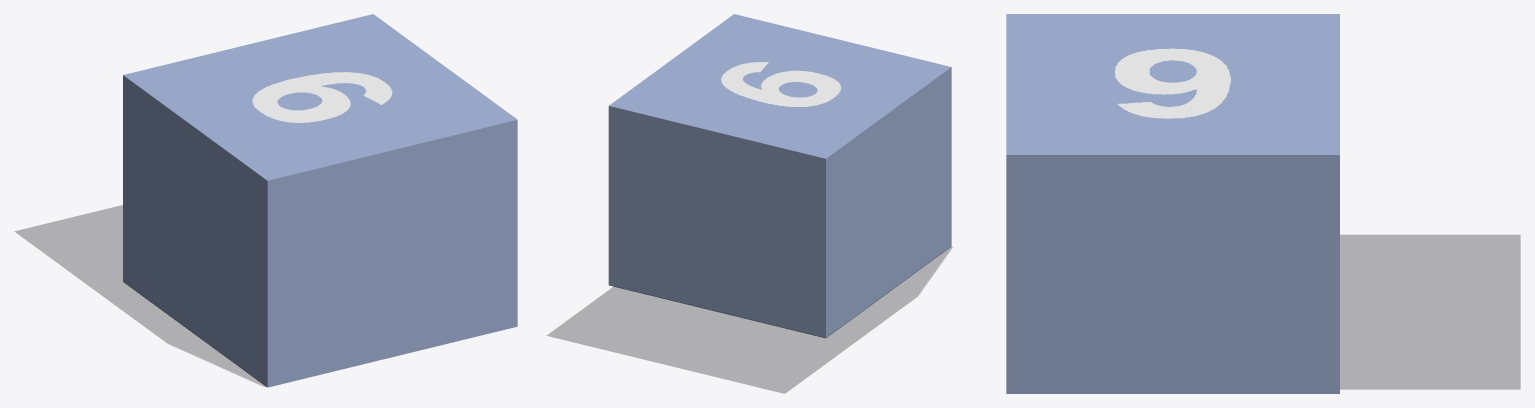
The model's file is numbered_block_5.glb.
3 renders of one model, left to right at view 1: azimuth 30°, elevation 25°; view 2: azimuth 150°, elevation 25°; view 3: azimuth 270°, elevation 25°, orthographic. The views are drawn at different scales.
Visible parts, largest first — view 1: hitObj, block, Object3D; view 2: hitObj, block, Object3D; view 3: hitObj, block, Object3D.
Boxes of the visible parts, box(x1,y1,x2,y2) form: hitObj: box(123, 14, 517, 387); block: box(15, 205, 266, 386); Object3D: box(252, 72, 392, 122); hitObj: box(608, 14, 951, 338); block: box(547, 246, 952, 393); Object3D: box(721, 62, 841, 107); hitObj: box(1006, 14, 1339, 393); block: box(1340, 235, 1520, 389); Object3D: box(1115, 48, 1230, 118).
Bounding box in the file's own units: 7.88 × 5.57 × 10.81.
4 materials, 3 textured.
